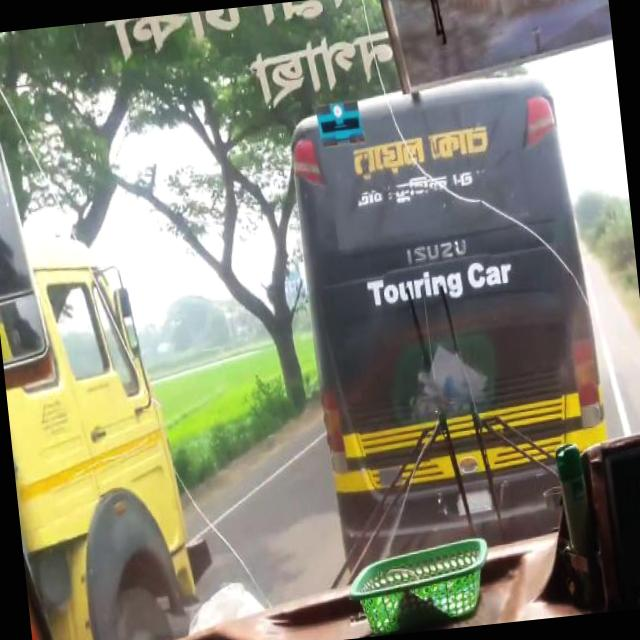bus: (282, 72, 608, 572)
truck: (0, 252, 216, 640)
